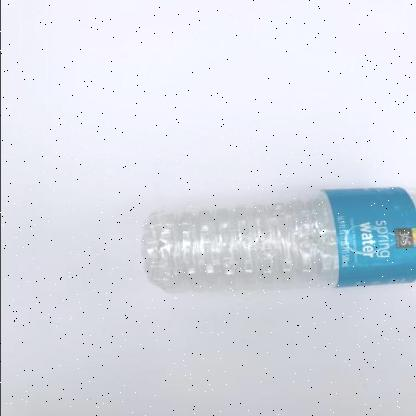Plastic Bottle: (142, 189, 416, 294)
